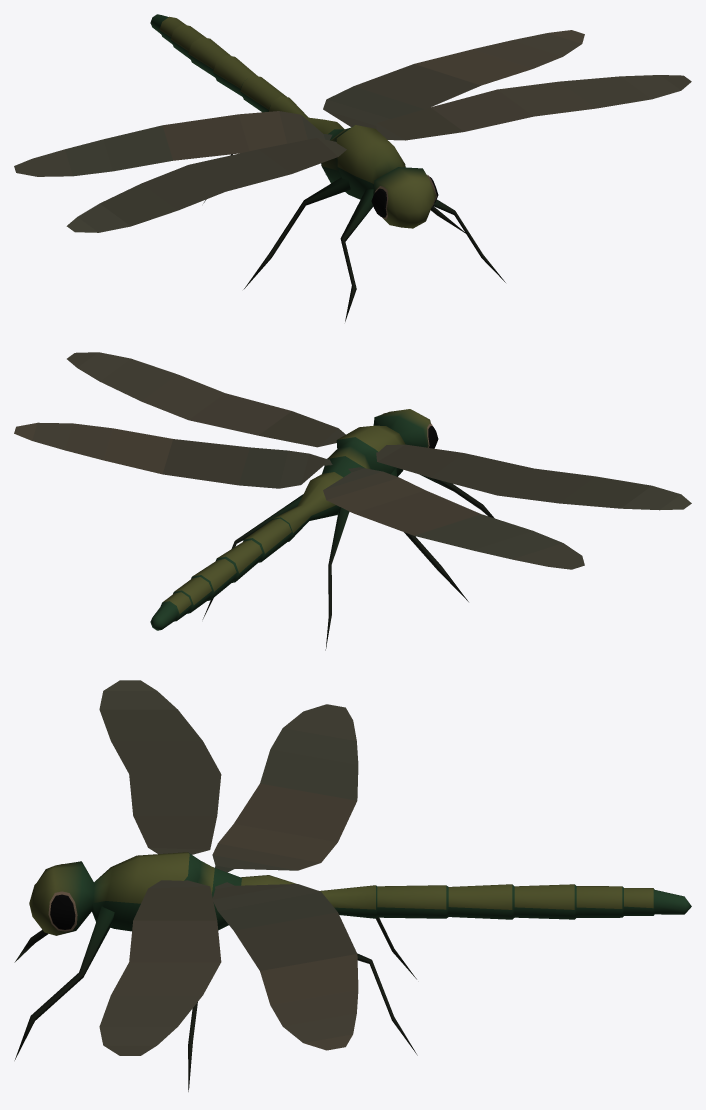
The model's file is animals-flyinginsects-dragonfly_v1.fbx.
The picture shows the model from 3 angles, top to bottom: view 1: azimuth 30°, elevation 25°; view 2: azimuth 150°, elevation 25°; view 3: azimuth 270°, elevation 25°; orthographic projection. The views are drawn at different scales.
Parts seen in each view (by area): view 1: Dragonfly.001; view 2: Dragonfly.001; view 3: Dragonfly.001.
Boxes of the visible parts, left/top/right/bottom form: Dragonfly.001: left=14, top=14, right=691, bottom=321; Dragonfly.001: left=14, top=352, right=691, bottom=650; Dragonfly.001: left=14, top=680, right=691, bottom=1091.
Size of the model in its own units: 1.07 by 0.2292 by 0.8152.
